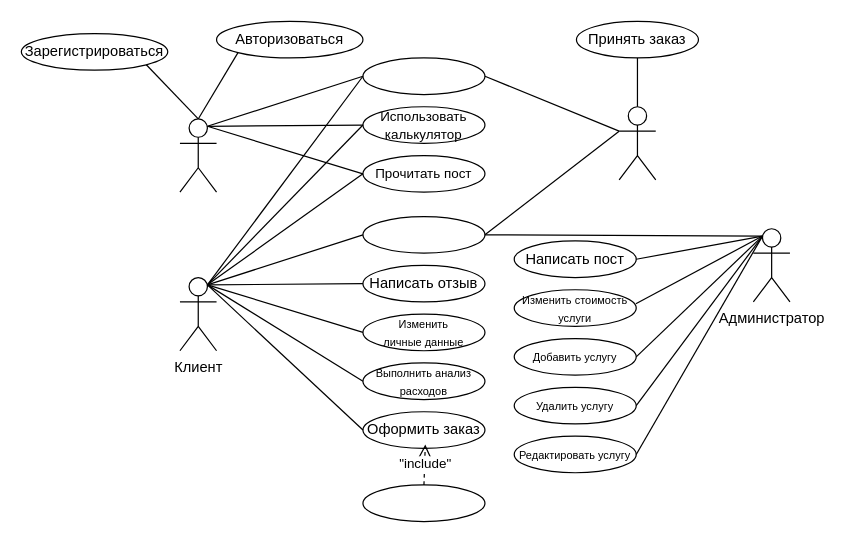
This 845x543 diagram has some shape labels left out. The shapes that lost their labels are listed below. From the top down, each one's centre as x and y in pixels, then its label:
point 423,76: Написать сообщение
point 198,155: Гость
point 637,143: Консультант
point 423,234: Выйти из аккаунта
point 423,503: Выбрать услуги
